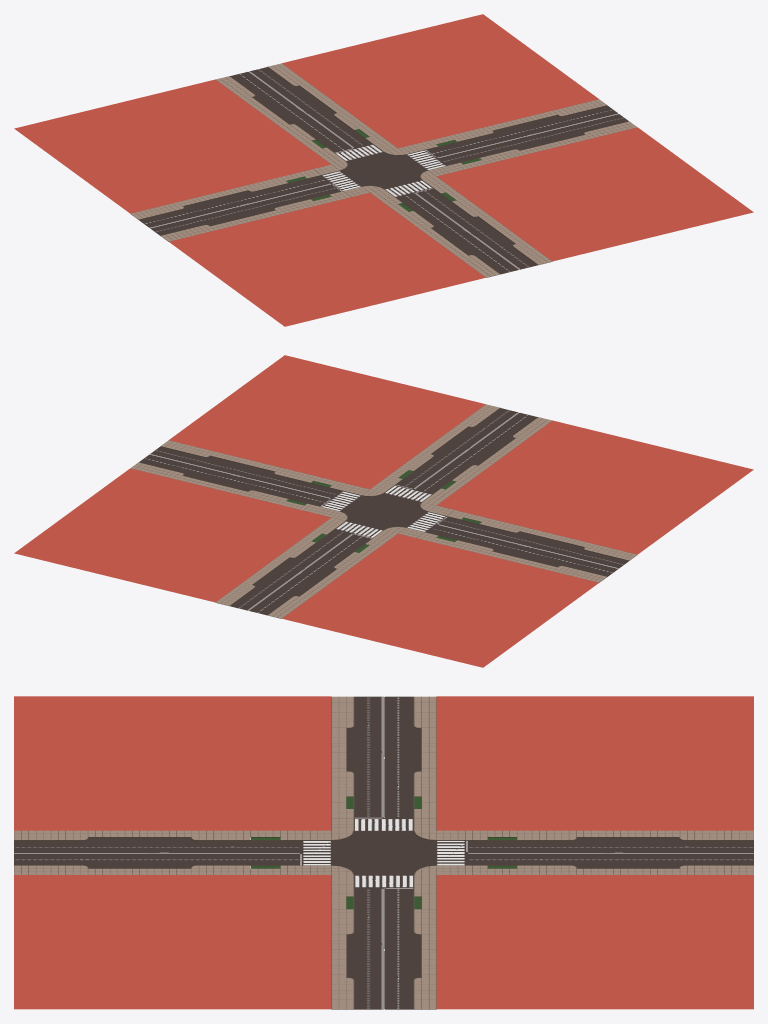
The model's file is TileCity5_4.fbx.
The picture shows the model from 3 angles, top to bottom: view 1: azimuth 30°, elevation 25°; view 2: azimuth 150°, elevation 25°; view 3: azimuth 270°, elevation 25°; orthographic projection. The views are drawn at different scales.
Parts seen in each view (by area): view 1: Sidewalk1.006, Road1.002, Road1.001, Road1.003, Sidewalk1.102, Sidewalk1.103, Sidewalk1.216, Sidewalk1.208; view 2: Sidewalk1.006, Road1.002, Road1.001, Road1.003, Sidewalk1.102, Sidewalk1.103, Sidewalk1.208, Sidewalk1.216; view 3: Sidewalk1.006, Road1.001, Road1.002, Road1.003, Sidewalk1.208, Sidewalk1.216, Sidewalk1.102, Sidewalk1.103, Sidewalk1.020, Sidewalk1.244, Sidewalk1.253, Sidewalk1.028 (+24 smaller).
Boxes of the visible parts, box(x1,y1,x2,y2) form: Sidewalk1.006: box(14, 14, 753, 326); Road1.002: box(139, 105, 628, 235); Road1.001: box(230, 67, 537, 274); Road1.003: box(340, 152, 427, 189); Sidewalk1.102: box(266, 169, 351, 208); Sidewalk1.103: box(417, 132, 501, 171); Sidewalk1.216: box(381, 184, 473, 220); Sidewalk1.208: box(294, 121, 386, 156); Sidewalk1.006: box(14, 355, 753, 667); Road1.002: box(139, 446, 628, 576); Road1.001: box(230, 408, 537, 615); Road1.003: box(340, 493, 427, 530); Sidewalk1.102: box(416, 510, 501, 549); Sidewalk1.103: box(266, 473, 350, 512); Sidewalk1.208: box(294, 525, 386, 561); Sidewalk1.216: box(381, 462, 473, 497); Sidewalk1.006: box(14, 696, 753, 1009); Road1.001: box(14, 840, 753, 865); Road1.002: box(354, 696, 413, 1009); Road1.003: box(331, 831, 436, 875); Sidewalk1.208: box(465, 830, 539, 874); Sidewalk1.216: box(228, 830, 302, 874); Sidewalk1.102: box(331, 787, 436, 818); Sidewalk1.103: box(331, 887, 436, 918); Sidewalk1.020: box(331, 946, 436, 965); Sidewalk1.244: box(606, 830, 650, 874); Sidewalk1.253: box(117, 830, 161, 874); Sidewalk1.028: box(331, 740, 436, 759).
Bounding box in the file's own units: 20000 × 10 × 20000.
